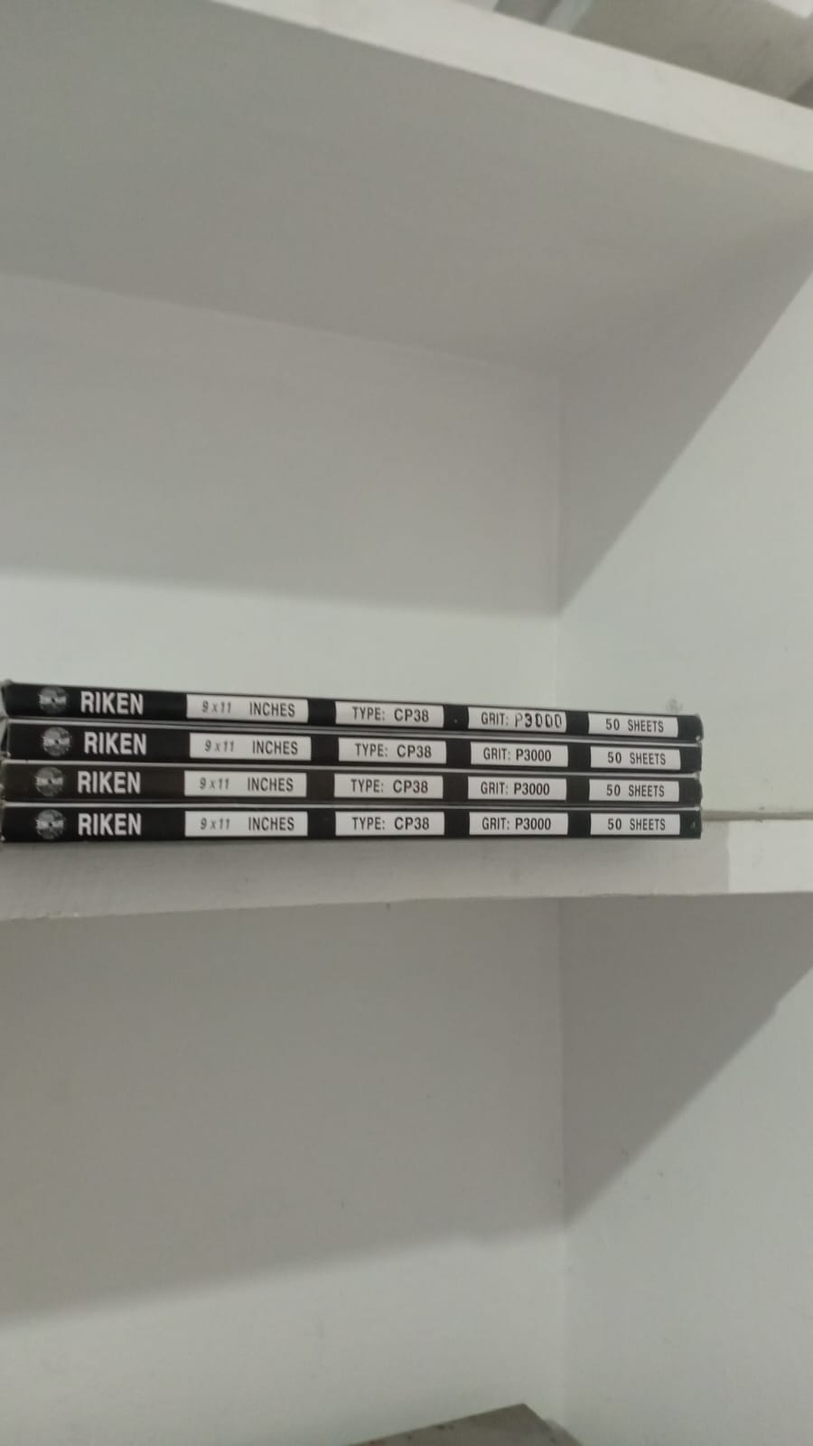grao: (460, 699, 571, 738), (463, 735, 571, 771), (462, 768, 569, 804), (463, 805, 572, 838)
objects: (0, 658, 723, 858)
